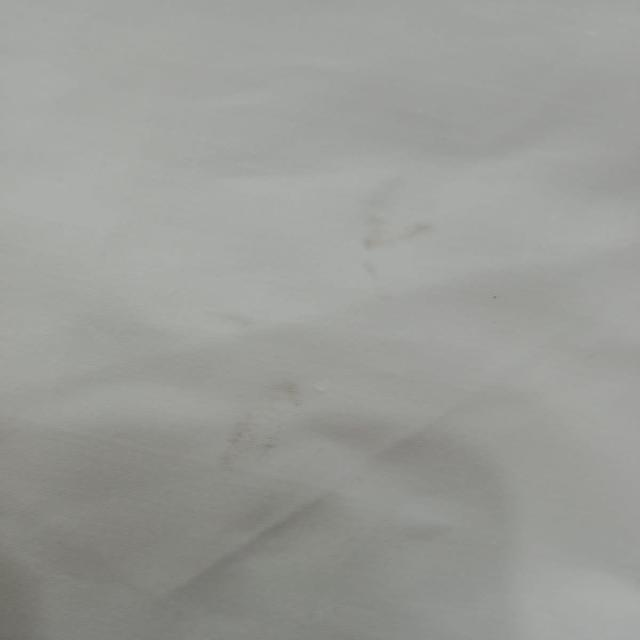stain: (204, 371, 376, 552), (334, 171, 433, 271)
